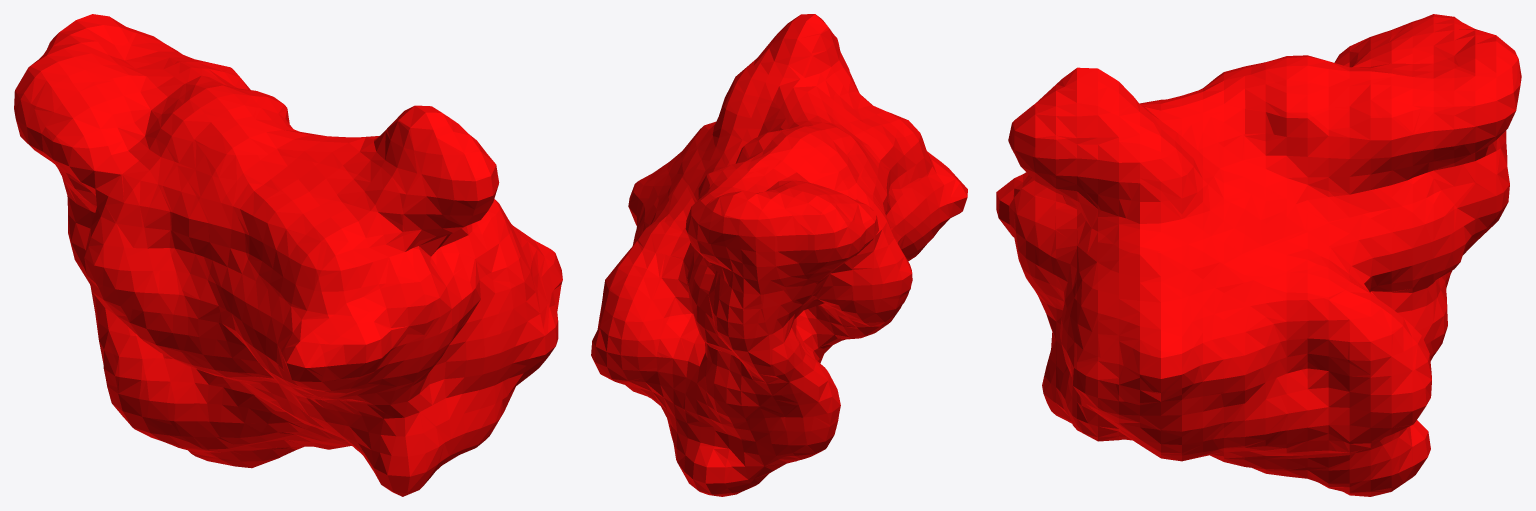
Rendered from shiA_coarse.dae.
3 views of the same model, side by side, from view 1: azimuth 30°, elevation 25°; view 2: azimuth 150°, elevation 25°; view 3: azimuth 270°, elevation 25° (orthographic). The views are drawn at different scales.
Visible parts, largest first — view 1: shiA; view 2: shiA; view 3: shiA.
Part boxes in pixels (bbox=[...]): shiA: bbox=[14, 14, 562, 496]; shiA: bbox=[591, 14, 967, 496]; shiA: bbox=[996, 14, 1521, 496].
Bounding box in the file's own units: 61.35 × 65.29 × 70.6.
